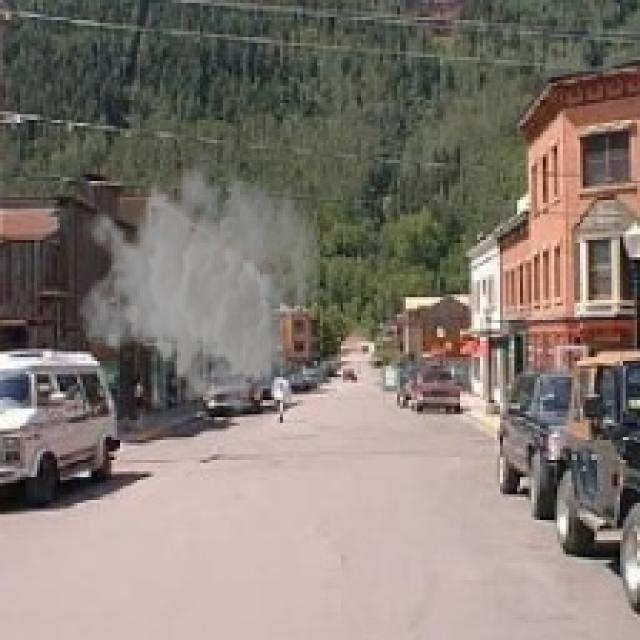smoke: (77, 140, 323, 417)
